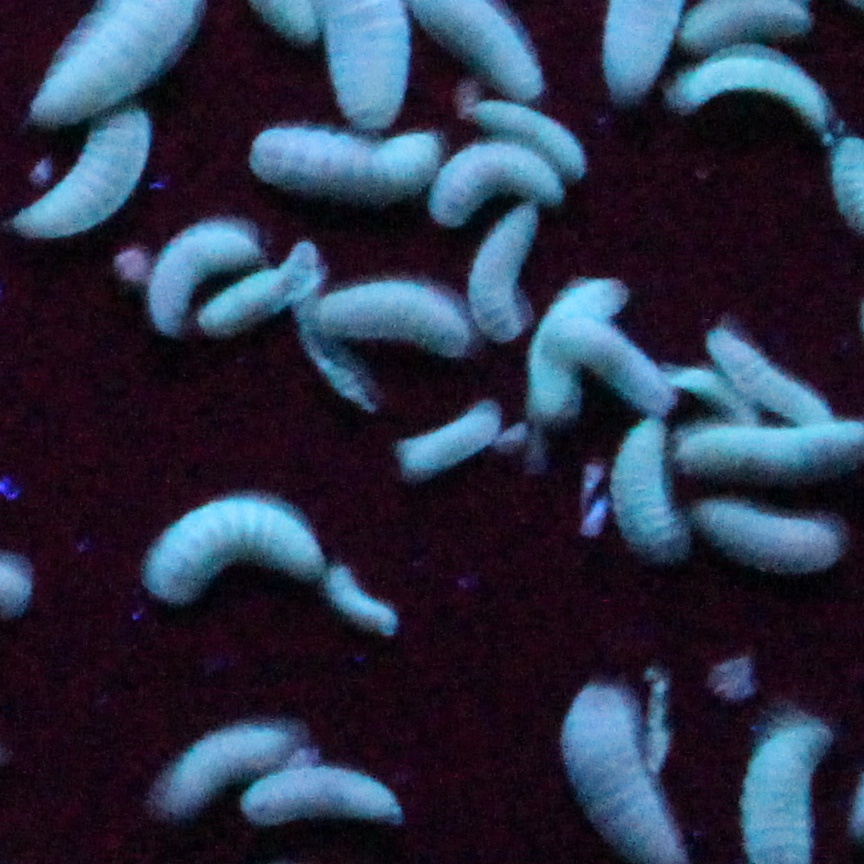larve: (140, 497, 326, 601), (16, 118, 158, 247), (249, 129, 434, 195), (531, 278, 607, 422), (157, 721, 294, 800), (679, 55, 825, 127), (711, 331, 832, 417), (144, 222, 244, 324), (205, 253, 324, 335), (696, 504, 841, 571), (434, 152, 559, 229), (611, 421, 678, 559), (323, 292, 467, 356), (571, 316, 670, 407), (476, 212, 532, 345), (241, 770, 397, 817), (479, 95, 585, 164), (400, 404, 500, 476), (332, 566, 396, 638)
